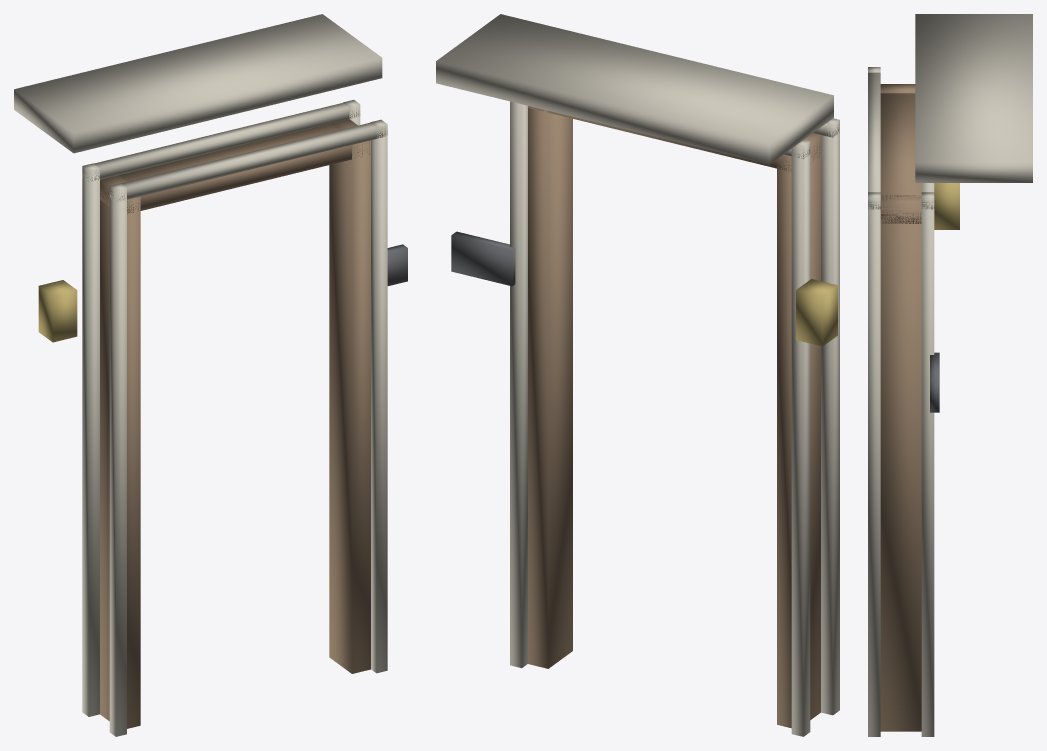
File: doorway_motel_w86_h200_d16.glb
3 renders of one model, left to right at view 1: azimuth 30°, elevation 25°; view 2: azimuth 150°, elevation 25°; view 3: azimuth 270°, elevation 25°, orthographic. The views are drawn at different scales.
Parts seen in each view (by area): view 1: world; view 2: world; view 3: world.
Boxes of the visible parts, bbox=[...] form: world: bbox=[14, 14, 407, 736]; world: bbox=[436, 14, 839, 736]; world: bbox=[868, 14, 1032, 736].
Size of the model in its own units: 1.44 by 2.3 by 0.5882.
